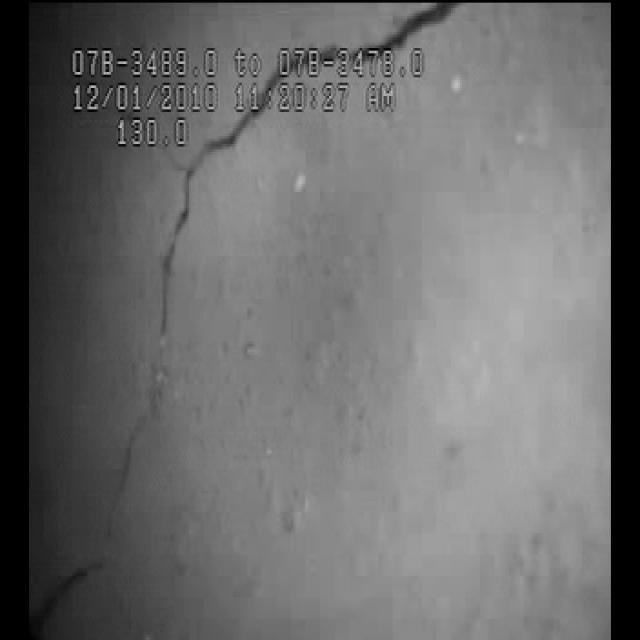Crack: (148, 6, 420, 316)
